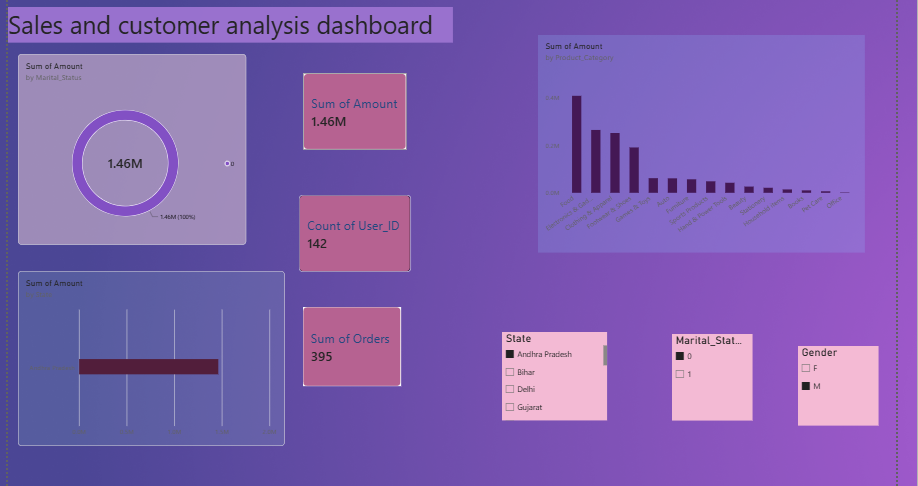

The page's visual inventory and layout, read from the dashboard file:
{"tool":"powerbi","page":{"name":"Page 1","canvas":[1920,1080],"ordinal":0},"visuals":[{"type":"columnChart","fields":{"Category":["diwali_sales_cleaned.Product_Category"],"Y":["Sum(diwali_sales_cleaned.Amount)"]},"box":[1143.8,87.2,705.8,469.8],"z":0},{"type":"barChart","fields":{"Category":["diwali_sales_cleaned.State"],"Y":["Sum(diwali_sales_cleaned.Amount)"]},"box":[21.3,595.3,576.1,378.4],"z":1},{"type":"donutChart","fields":{"Category":["diwali_sales_cleaned.Marital_Status"],"Y":["Sum(diwali_sales_cleaned.Amount)"]},"box":[21.3,127.6,493.2,412.4],"z":2},{"type":"cardVisual","fields":{"Data":["Sum(diwali_sales_cleaned.Orders)"]},"box":[637.8,673.9,211.7,171.3],"z":3},{"type":"cardVisual","fields":{"Data":["Count(diwali_sales_cleaned.User_ID)"]},"box":[629.3,431.6,241.9,166.3],"z":4},{"type":"cardVisual","fields":{"Data":["Sum(diwali_sales_cleaned.Amount)"]},"box":[637.8,168,224.3,166.3],"z":5},{"type":"slicer","fields":{"Values":["diwali_sales_cleaned.State"]},"box":[1067.2,727.1,227.5,191.3],"z":6},{"type":"slicer","fields":{"Values":["diwali_sales_cleaned.Marital_Status"]},"box":[1435,731.3,174.3,187.1],"z":7},{"type":"slicer","fields":{"Values":["diwali_sales_cleaned.Gender"]},"box":[1707.2,759,174.3,172.2],"z":8},{"type":"textbox","box":[0,25.5,960.9,76.5],"z":10}]}

Visuals, with their boxes in screenshot pixels (x1, y1, x2, y2):
columnChart - diwali_sales_cleaned.Product_Category x Sum(diwali_sales_cleaned.Amount): BBox(533, 33, 857, 249)
barChart - diwali_sales_cleaned.State x Sum(diwali_sales_cleaned.Amount): BBox(17, 266, 282, 440)
donutChart - diwali_sales_cleaned.Marital_Status x Sum(diwali_sales_cleaned.Amount): BBox(17, 51, 244, 241)
cardVisual - Sum(diwali_sales_cleaned.Orders): BBox(300, 302, 397, 381)
cardVisual - Count(diwali_sales_cleaned.User_ID): BBox(296, 191, 407, 268)
cardVisual - Sum(diwali_sales_cleaned.Amount): BBox(300, 70, 403, 146)
slicer - diwali_sales_cleaned.State: BBox(497, 327, 602, 415)
slicer - diwali_sales_cleaned.Marital_Status: BBox(666, 329, 747, 415)
slicer - diwali_sales_cleaned.Gender: BBox(791, 342, 872, 421)
textbox: BBox(7, 5, 449, 40)
